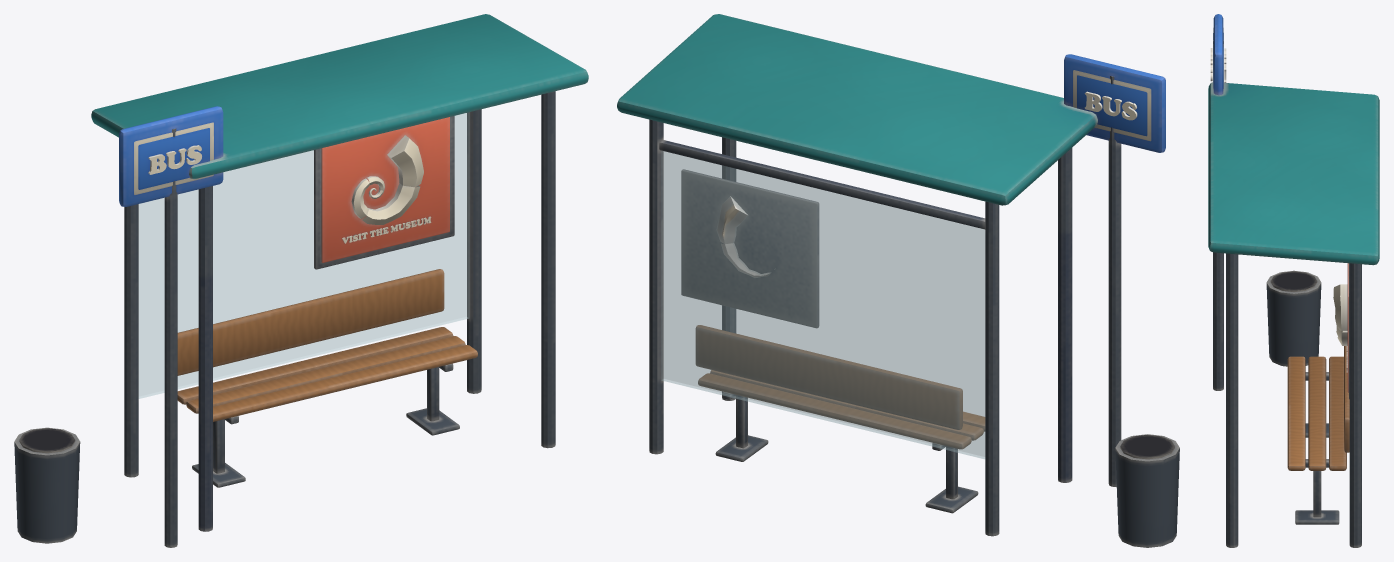
Rendered from bus_stop.glb.
3 renders of one model, left to right at view 1: azimuth 30°, elevation 25°; view 2: azimuth 150°, elevation 25°; view 3: azimuth 270°, elevation 25°, orthographic. The views are drawn at different scales.
Visible parts, largest first — view 1: SM_BusStop; view 2: SM_BusStop; view 3: SM_BusStop.
Part boxes in pixels (x1,y1,x2,y2): SM_BusStop: [14, 14, 588, 547]; SM_BusStop: [617, 14, 1179, 547]; SM_BusStop: [1208, 14, 1379, 547].
Size of what is drawn, in the model's own units: 3.65 by 2.86 by 1.25.
Materials: 2 (1 with a texture image).
